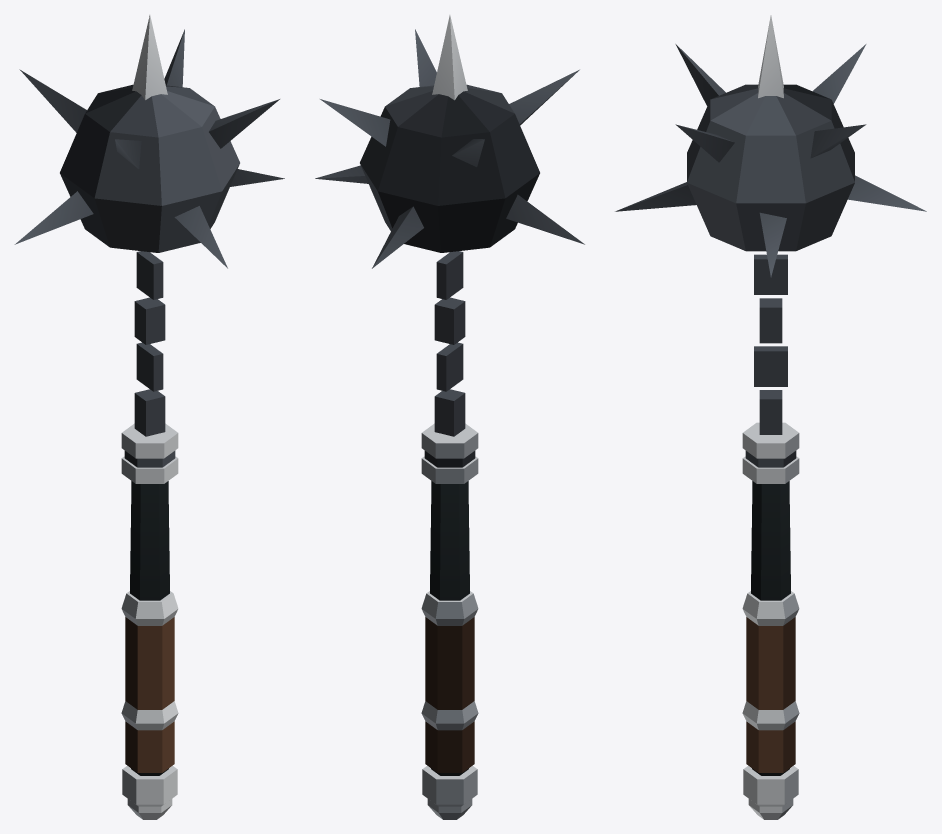
File: knight_flail_2.gltf
3 views of the same model, side by side, from view 1: azimuth 30°, elevation 25°; view 2: azimuth 150°, elevation 25°; view 3: azimuth 270°, elevation 25° (orthographic).
Parts seen in each view (by area): view 1: knight_flail_2; view 2: knight_flail_2; view 3: knight_flail_2.
Part boxes in pixels (left/top/right/bottom): knight_flail_2: left=14, top=15, right=284, bottom=819; knight_flail_2: left=315, top=15, right=584, bottom=819; knight_flail_2: left=615, top=15, right=926, bottom=819.
Bounding box in the file's own units: 0.5579 × 1.57 × 0.5579.
1 material, 1 textured.
